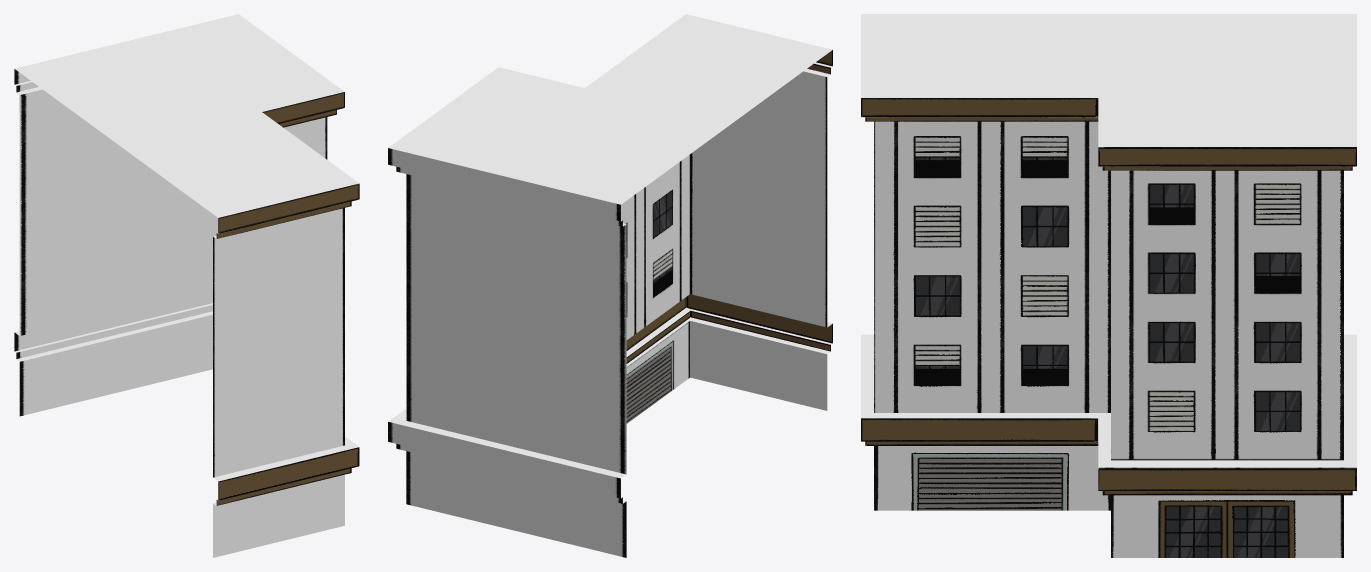
File: TESTE.glb
3 views of the same model, side by side, from view 1: azimuth 30°, elevation 25°; view 2: azimuth 150°, elevation 25°; view 3: azimuth 270°, elevation 25° (orthographic). The views are drawn at different scales.
Parts seen in each view (by area): view 1: Cube; view 2: Cube; view 3: Cube.
Boxes of the visible parts, <box> form: Cube: <box>14,14,359,557</box>; Cube: <box>388,14,832,557</box>; Cube: <box>861,14,1356,557</box>.
Size of the model in its own units: 2.12 by 3.1 by 3.34.
Materials: 1 (1 with a texture image).
